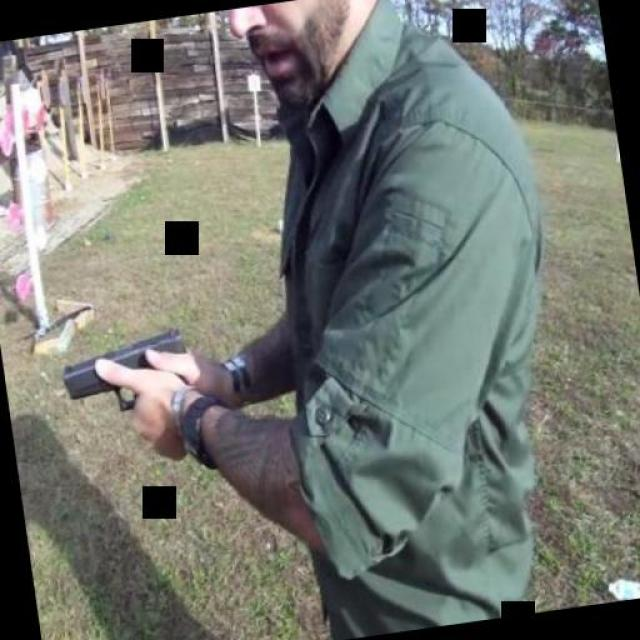gun: (49, 322, 210, 450)
